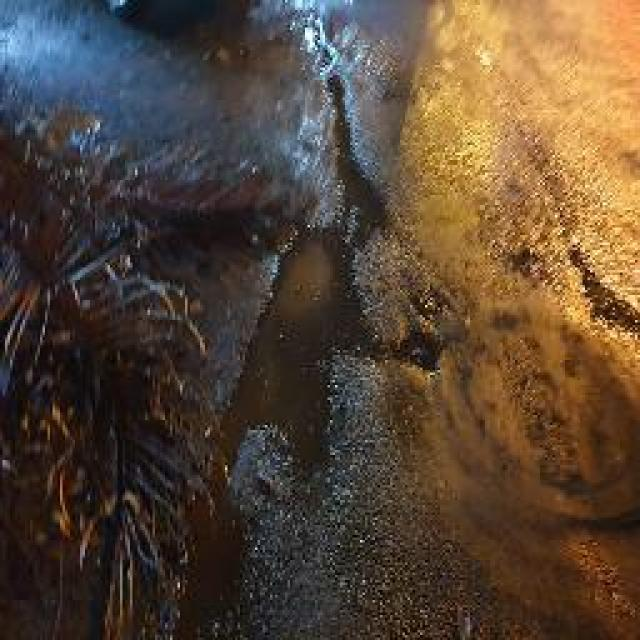stagnation: (193, 16, 477, 549)
